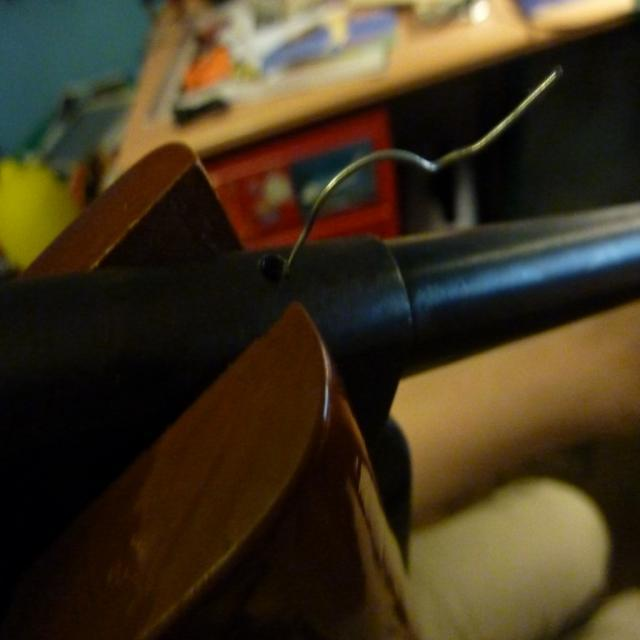weapon: (16, 63, 640, 640)
